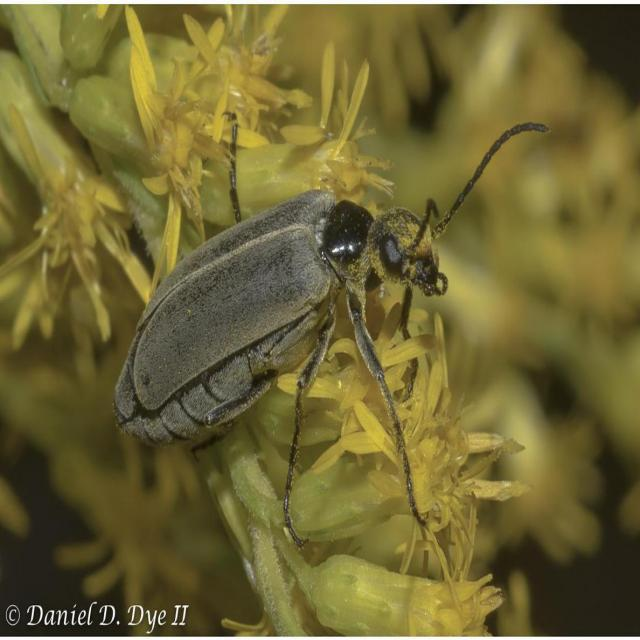BlisterBeetle-Adult-: (106, 108, 554, 552)
